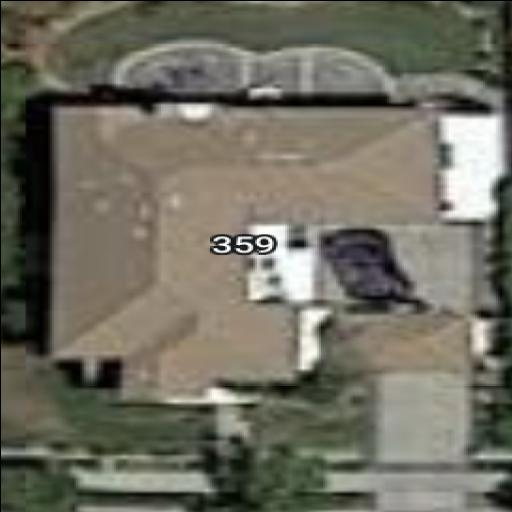Slope-Roof: (54, 108, 469, 392)
